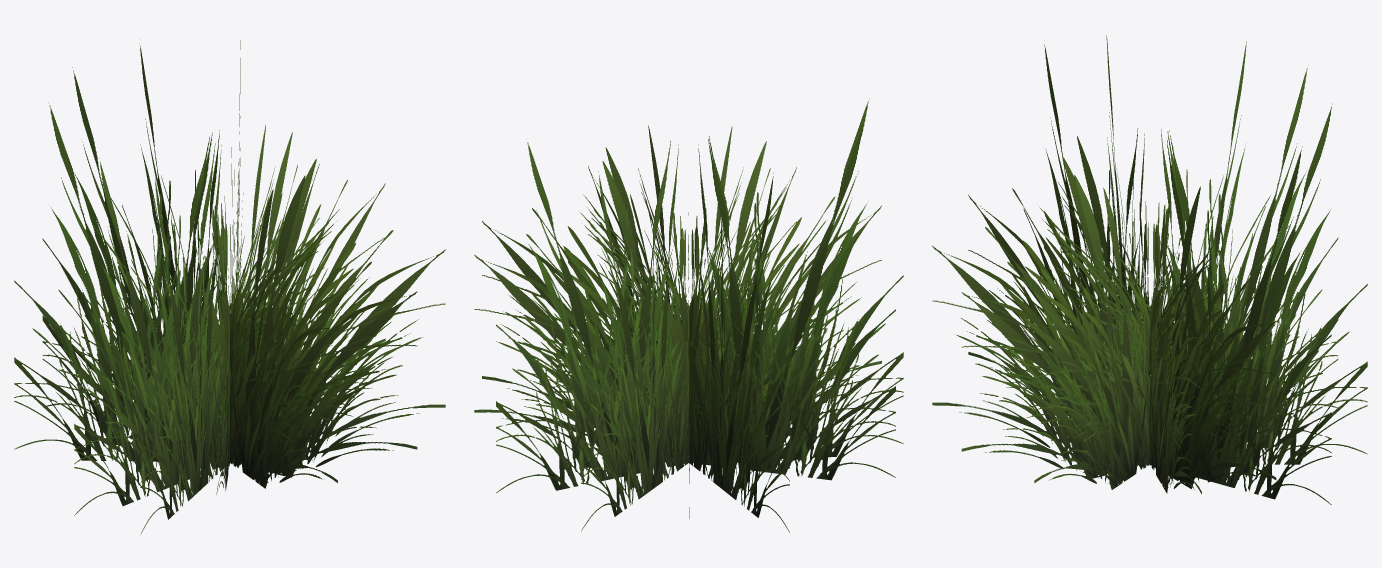
File: grass01.fbx
3 renders of one model, left to right at view 1: azimuth 30°, elevation 25°; view 2: azimuth 150°, elevation 25°; view 3: azimuth 270°, elevation 25°, orthographic.
Parts seen in each view (by area): view 1: Plane_6; view 2: Plane_6; view 3: Plane_6.
Boxes of the visible parts, x1=… form: Plane_6: x1=14, y1=40, x2=445, y2=534; Plane_6: x1=474, y1=98, x2=903, y2=532; Plane_6: x1=932, y1=35, x2=1367, y2=504.
Bounding box in the file's own units: 388 × 366 × 400.
Materials: 1 (1 with a texture image).
